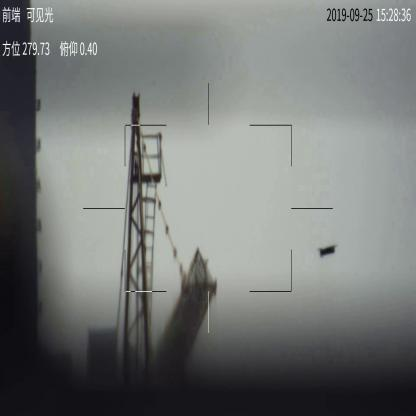uav: (316, 244, 334, 258)
